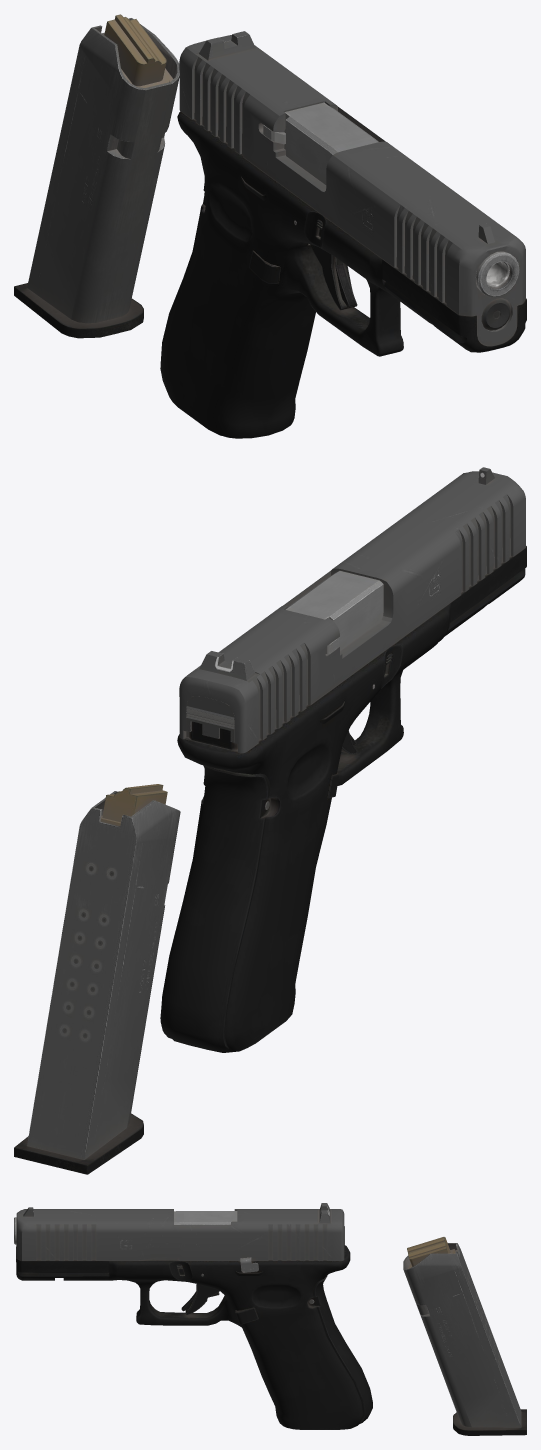
3 views of the same model, one above another, from view 1: azimuth 30°, elevation 25°; view 2: azimuth 150°, elevation 25°; view 3: azimuth 270°, elevation 25° (orthographic). The views are drawn at different scales.
Parts seen in each view (by area): view 1: Grip Screw_low_Lower Material_0, Barrel_low_Upper Material_0, Magazine_low_Magazine Material_0; view 2: Grip Screw_low_Lower Material_0, Barrel_low_Upper Material_0, Magazine_low_Magazine Material_0; view 3: Grip Screw_low_Lower Material_0, Barrel_low_Upper Material_0, Magazine_low_Magazine Material_0.
Part boxes in pixels (x1=…): Grip Screw_low_Lower Material_0: x1=160, y1=111, x2=526, y2=438; Barrel_low_Upper Material_0: x1=179, y1=31, x2=525, y2=346; Magazine_low_Magazine Material_0: x1=14, y1=14, x2=179, y2=338; Grip Screw_low_Lower Material_0: x1=160, y1=546, x2=526, y2=1052; Barrel_low_Upper Material_0: x1=179, y1=467, x2=525, y2=753; Magazine_low_Magazine Material_0: x1=14, y1=784, x2=180, y2=1174; Grip Screw_low_Lower Material_0: x1=16, y1=1245, x2=372, y2=1429; Barrel_low_Upper Material_0: x1=14, y1=1203, x2=344, y2=1261; Magazine_low_Magazine Material_0: x1=403, y1=1237, x2=526, y2=1435.
Bounding box in the file's own units: 0.0311 × 0.1368 × 0.2936.
3 materials, 3 textured.
